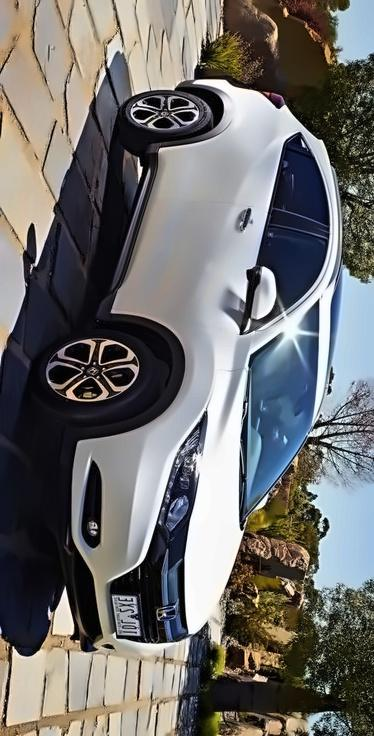Car hood: (184, 365, 262, 639)
Driver-s door - -F-R-: (86, 200, 346, 328)
Fender - -F-R-: (71, 298, 276, 444)
Fender - -R-R-: (155, 68, 322, 160)
Front bumper: (55, 408, 168, 668)
Headlight - -R-: (153, 403, 205, 547)
Passenger-s door - -R-R-: (108, 129, 356, 236)
Side bumper - -R-: (88, 129, 173, 336)
Side mirror - -R-: (234, 259, 277, 332)
